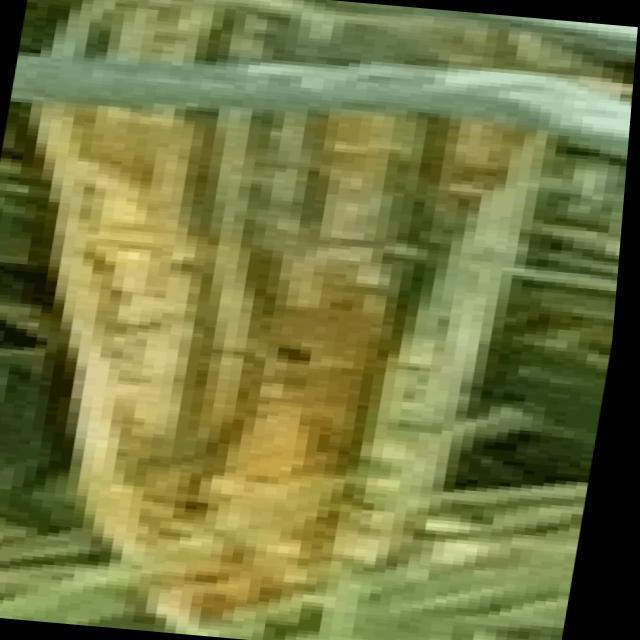Yellow Rust: (63, 0, 562, 639)
